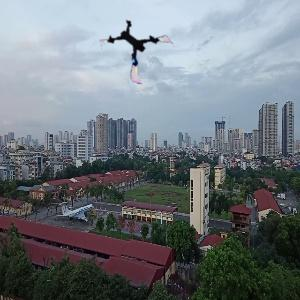drone: (108, 15, 172, 79)
